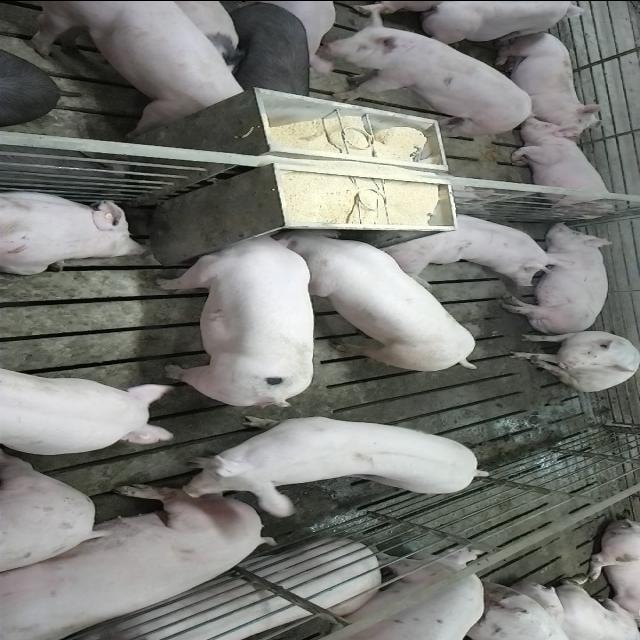Feeding: (276, 228, 479, 376), (156, 230, 316, 412)
Lateral_lying: (0, 477, 272, 637), (33, 540, 379, 640), (500, 222, 616, 334)
Sitting: (506, 328, 638, 391)
Standing: (186, 414, 494, 519), (8, 2, 250, 130), (315, 15, 537, 134), (293, 546, 481, 640), (0, 364, 175, 459), (225, 4, 314, 106)
Sternal_lying: (381, 207, 567, 285), (0, 187, 151, 274), (490, 30, 603, 135), (508, 124, 620, 216)
